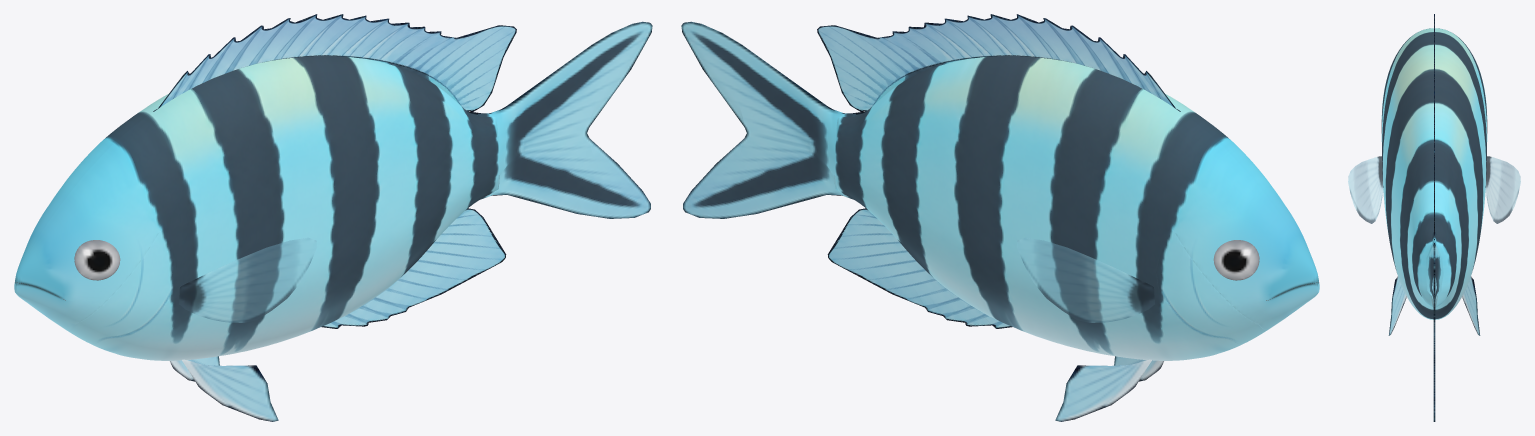
The model's file is rokusen-light-v5.glb.
3 views of the same model, side by side, from view 1: azimuth 30°, elevation 25°; view 2: azimuth 150°, elevation 25°; view 3: azimuth 270°, elevation 25° (orthographic). The views are drawn at different scales.
Parts seen in each view (by area): view 1: body, caudal, dorsal, pectoral_1, anal, operculum_1, pelvic_1, eye_1; view 2: body, caudal, dorsal, pectoral_-1, anal, operculum_-1, pelvic_-1, eye_-1; view 3: body, pectoral_-1, pectoral_1, caudal, pelvic_-1, pelvic_1, dorsal.
Part boxes in pixels (x1,y1,x2,y2): body: (14, 56, 499, 360); caudal: (478, 21, 652, 218); dorsal: (153, 14, 516, 115); pectoral_1: (179, 238, 316, 322); anal: (322, 195, 506, 328); operculum_1: (65, 229, 177, 343); pelvic_1: (182, 359, 278, 421); eye_1: (74, 240, 120, 280); body: (834, 56, 1319, 360); caudal: (681, 21, 855, 218); dorsal: (817, 14, 1180, 115); pectoral_-1: (1017, 238, 1154, 322); anal: (827, 195, 1011, 328); operculum_-1: (1156, 229, 1268, 343); pelvic_-1: (1055, 359, 1151, 421); eye_-1: (1213, 240, 1259, 280); body: (1381, 28, 1487, 319); pectoral_-1: (1485, 156, 1520, 223); pectoral_1: (1348, 156, 1383, 223); caudal: (1425, 232, 1443, 421); pelvic_-1: (1462, 276, 1480, 335); pelvic_1: (1388, 276, 1406, 335); dorsal: (1434, 14, 1434, 244).
Bounding box in the file's own units: 0.1801 × 0.1012 × 0.0497.
Materials: 5 (5 with a texture image).
